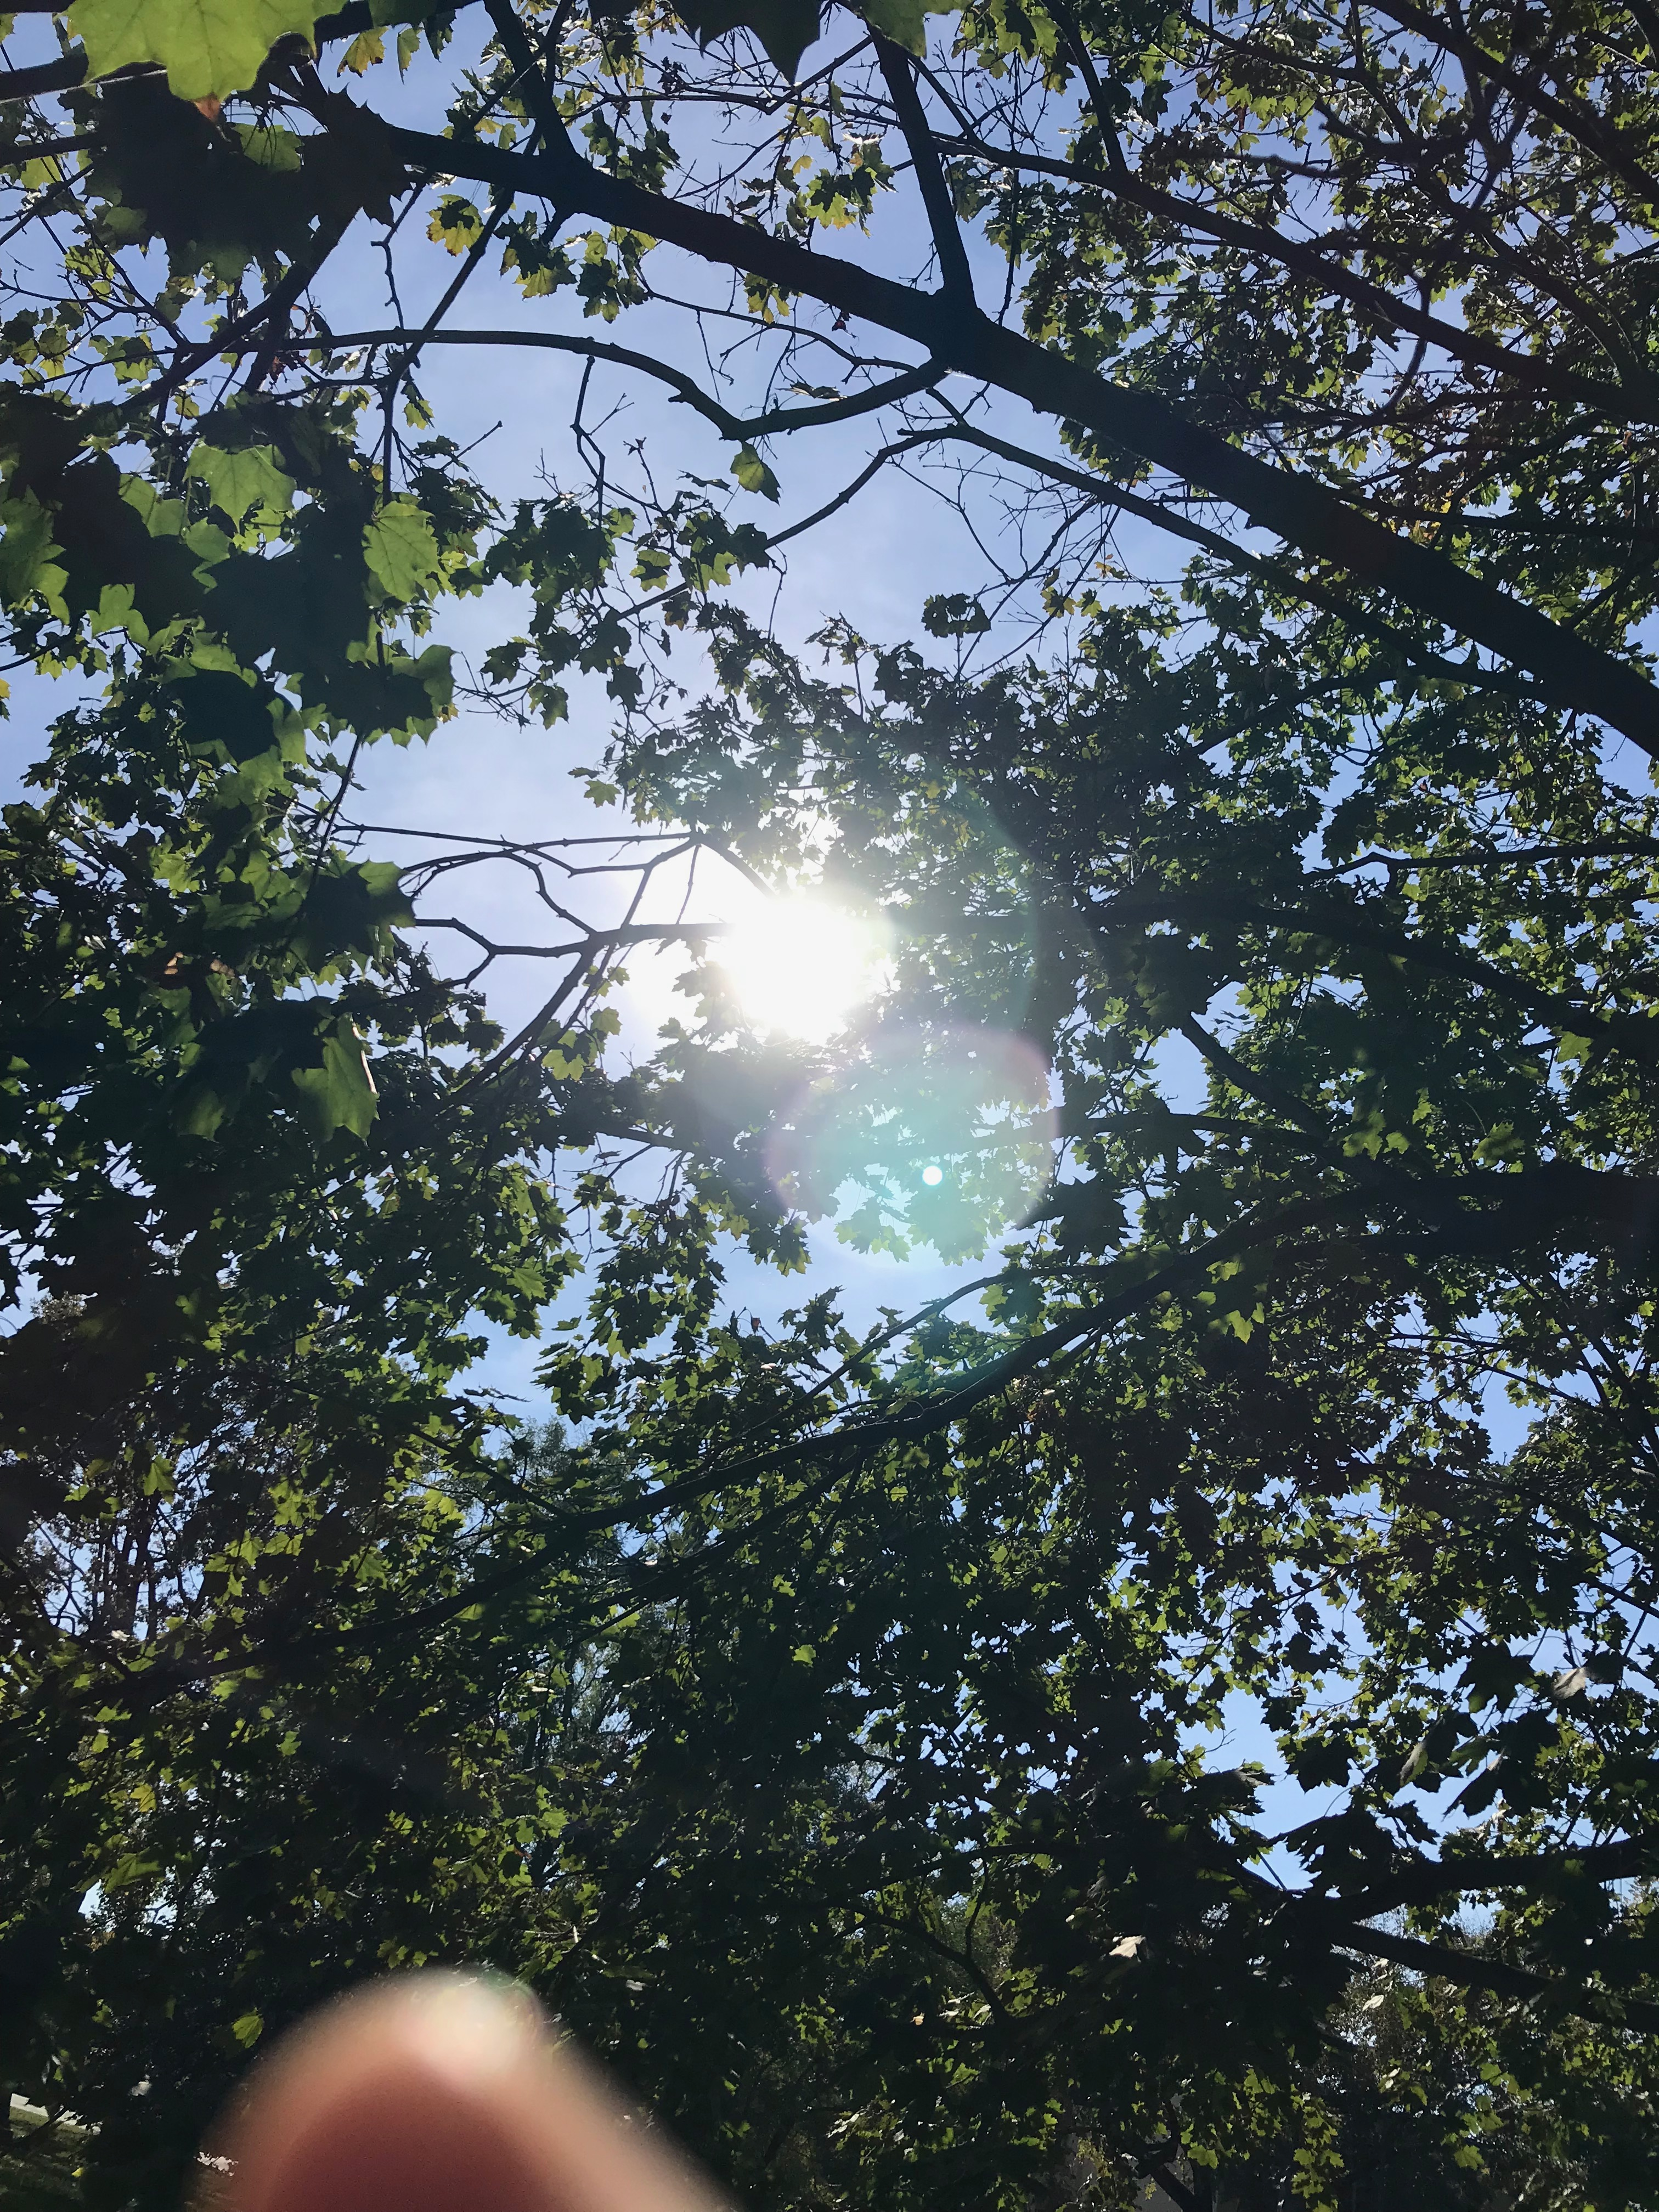flare: (920, 1165, 945, 1188)
